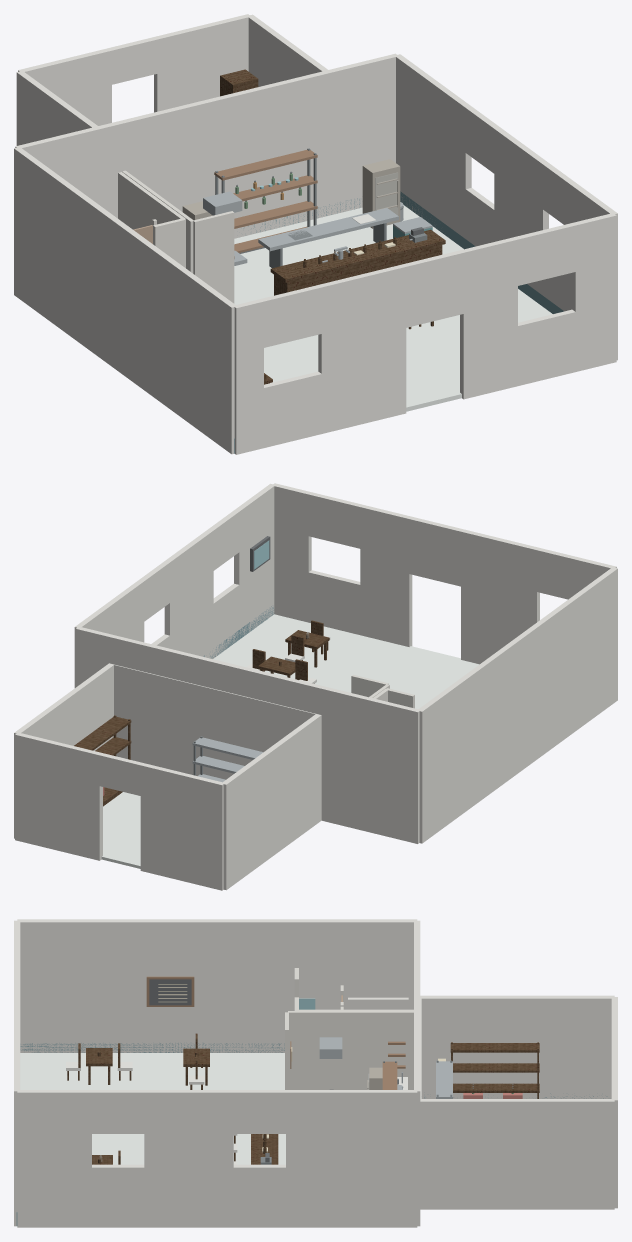
Rendered from EST04.glb.
The picture shows the model from 3 angles, top to bottom: view 1: azimuth 30°, elevation 25°; view 2: azimuth 150°, elevation 25°; view 3: azimuth 270°, elevation 25°; orthographic projection. The views are drawn at different scales.
Parts seen in each view (by area): view 1: FACHADA_FUNDOS_SEG_00_0, FACHADA_OESTE_SEG_00_0, FACHADA_FRENTE_SEG_02_0, BAR_PISO_NIVEL_TERREO, FACHADA_LESTE_SEG_00_0, FACHADA_FRENTE_SEG_04_0, DEPOSITO_FRENTE_SUL_SEG_02_0, FACHADA_FRENTE_SEG_06_0, FACHADA_LESTE_SEG_02_0, FACHADA_FRENTE_SEG_00_0, DEPOSITO_FRENTE_SUL_SEG_00_0, FACHADA_FRENTE_SEG_03_1 (+27 smaller); view 2: FACHADA_OESTE_SEG_00_0, FACHADA_FUNDOS_SEG_00_0, DEPOSITO_FUNDO_NORTE_SEG_00_0, DEPOSITO_OESTE_SEG_00_0, BAR_PISO_NIVEL_TERREO, DEPOSITO_FRENTE_SUL_SEG_02_0, DEPOSITO_FRENTE_SUL_SEG_00_0, FACHADA_FRENTE_SEG_02_0, FACHADA_FRENTE_SEG_04_0, FACHADA_LESTE_SEG_02_0, FACHADA_FRENTE_SEG_06_0, FACHADA_LESTE_SEG_04_0 (+14 smaller); view 3: FACHADA_OESTE_SEG_00_0, DEPOSITO_LESTE_SEG_00_0, FACHADA_LESTE_SEG_00_0, DEPOSITO_OESTE_SEG_00_0, FACHADA_LESTE_SEG_02_0, BAR_PISO_NIVEL_TERREO, FACHADA_LESTE_SEG_04_0, COPA_DIVISORIA_OESTE, FACHADA_LESTE_SEG_03_0, FACHADA_LESTE_SEG_01_0, FACHADA_LESTE_SEG_03_1, FACHADA_LESTE_SEG_01_1 (+16 smaller).
Part boxes in pixels (x1=…): FACHADA_FUNDOS_SEG_00_0: x1=15, y1=53, x2=396, y2=238; FACHADA_OESTE_SEG_00_0: x1=14, y1=147, x2=236, y2=454; FACHADA_FRENTE_SEG_02_0: x1=318, y1=264, x2=406, y2=433; BAR_PISO_NIVEL_TERREO: x1=234, y1=205, x2=552, y2=411; FACHADA_LESTE_SEG_00_0: x1=395, y1=54, x2=471, y2=238; FACHADA_FRENTE_SEG_04_0: x1=460, y1=237, x2=517, y2=399; DEPOSITO_FRENTE_SUL_SEG_02_0: x1=154, y1=14, x2=249, y2=112; FACHADA_FRENTE_SEG_06_0: x1=572, y1=213, x2=616, y2=371; FACHADA_LESTE_SEG_02_0: x1=494, y1=127, x2=548, y2=295; FACHADA_FRENTE_SEG_00_0: x1=234, y1=299, x2=263, y2=454; DEPOSITO_FRENTE_SUL_SEG_00_0: x1=18, y1=48, x2=111, y2=125; FACHADA_FRENTE_SEG_03_1: x1=403, y1=250, x2=463, y2=327; FACHADA_OESTE_SEG_00_0: x1=417, y1=568, x2=617, y2=843; FACHADA_FUNDOS_SEG_00_0: x1=75, y1=626, x2=419, y2=843; DEPOSITO_FUNDO_NORTE_SEG_00_0: x1=114, y1=664, x2=315, y2=779; DEPOSITO_OESTE_SEG_00_0: x1=221, y1=714, x2=321, y2=890; BAR_PISO_NIVEL_TERREO: x1=213, y1=614, x2=479, y2=709; DEPOSITO_FRENTE_SUL_SEG_02_0: x1=15, y1=733, x2=102, y2=860; DEPOSITO_FRENTE_SUL_SEG_00_0: x1=140, y1=763, x2=223, y2=890; FACHADA_FRENTE_SEG_02_0: x1=461, y1=529, x2=539, y2=664; FACHADA_FRENTE_SEG_04_0: x1=360, y1=505, x2=412, y2=646; FACHADA_LESTE_SEG_02_0: x1=164, y1=529, x2=213, y2=658; FACHADA_FRENTE_SEG_06_0: x1=273, y1=483, x2=311, y2=622; FACHADA_LESTE_SEG_04_0: x1=234, y1=483, x2=275, y2=638; FACHADA_OESTE_SEG_00_0: x1=17, y1=919, x2=417, y2=1052; DEPOSITO_LESTE_SEG_00_0: x1=420, y1=1099, x2=614, y2=1209; FACHADA_LESTE_SEG_00_0: x1=286, y1=1090, x2=417, y2=1227; DEPOSITO_OESTE_SEG_00_0: x1=420, y1=995, x2=614, y2=1098; FACHADA_LESTE_SEG_02_0: x1=144, y1=1090, x2=233, y2=1227; BAR_PISO_NIVEL_TERREO: x1=20, y1=1053, x2=285, y2=1164; FACHADA_LESTE_SEG_04_0: x1=17, y1=1090, x2=91, y2=1227; COPA_DIVISORIA_OESTE: x1=288, y1=1011, x2=413, y2=1089; FACHADA_LESTE_SEG_03_0: x1=92, y1=1164, x2=144, y2=1227; FACHADA_LESTE_SEG_01_0: x1=233, y1=1164, x2=285, y2=1227; FACHADA_LESTE_SEG_03_1: x1=92, y1=1090, x2=144, y2=1133; FACHADA_LESTE_SEG_01_1: x1=233, y1=1090, x2=285, y2=1133.
Bounding box in the file's own units: 11.58 × 4.2 × 17.06.
Materials: 21 (1 with a texture image).
